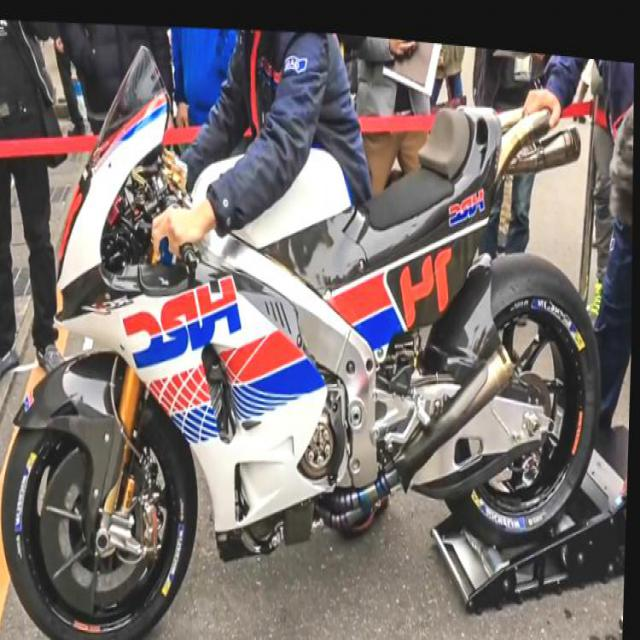HRC RCV 213: (0, 3, 616, 638)
